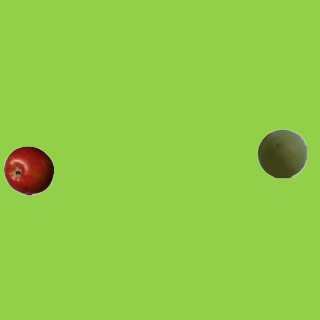Apple Braeburn: (3, 145, 53, 195)
Grape White 4: (256, 128, 306, 178)
